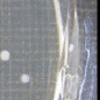white: (0, 49, 11, 63), (20, 72, 31, 85), (67, 42, 75, 53)
